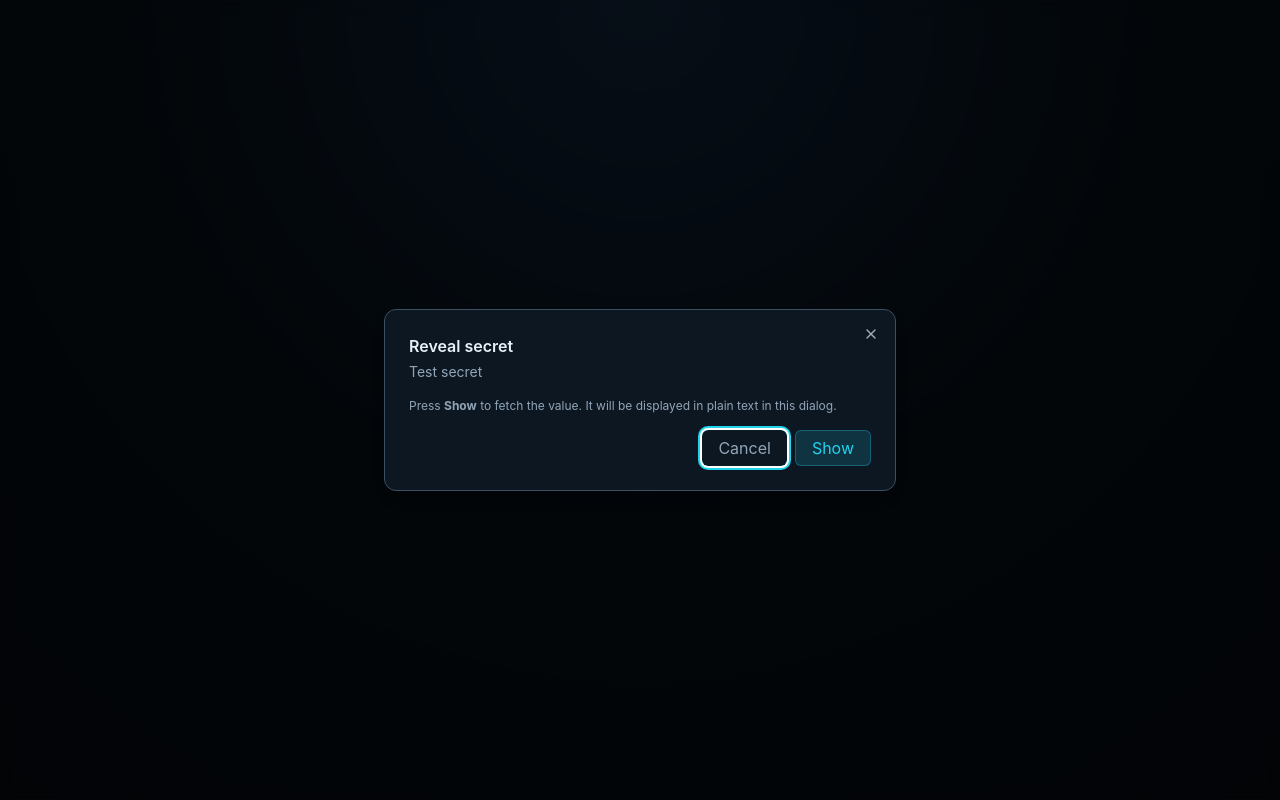
it: RevealSecretView › reveals and copies exact Unicode, then releases cached query data
Later steps or results of the test are not shown.
Click the button "Show".
click(833, 448)  # box [795,430,871,466]
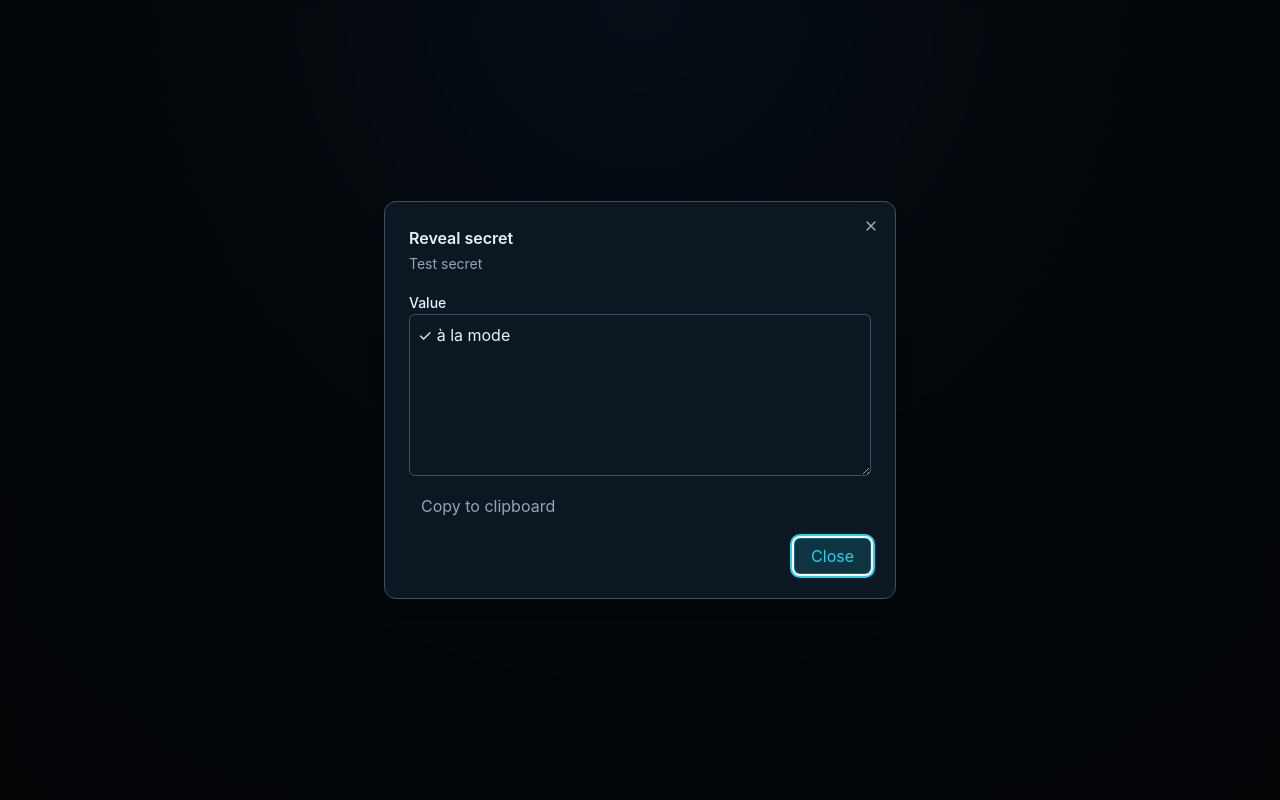
Result: the text box with test id "revealed-secret" holds "✓ à la mode" at [409,314,871,476]
